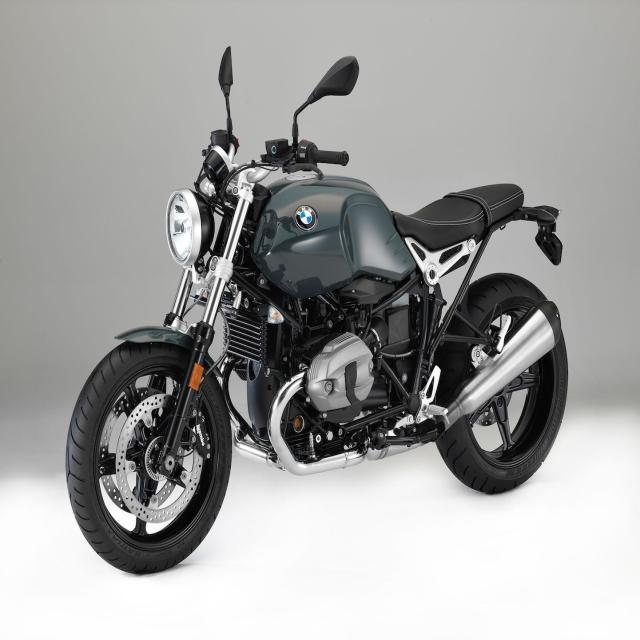Motorcycle: (66, 47, 570, 573)
